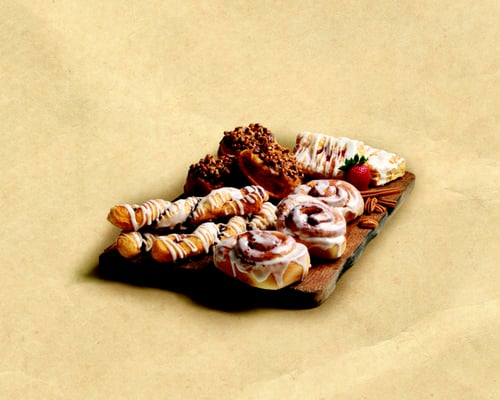salad: (214, 229, 311, 290), (117, 222, 220, 270), (276, 194, 348, 261), (295, 179, 365, 223), (238, 149, 295, 202), (182, 154, 245, 198)
